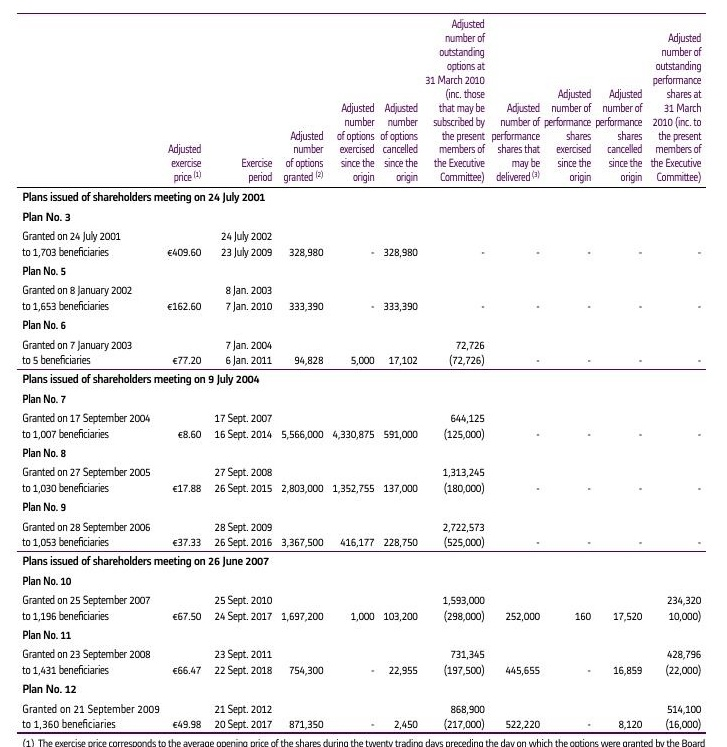table: (0, 0, 727, 747)
